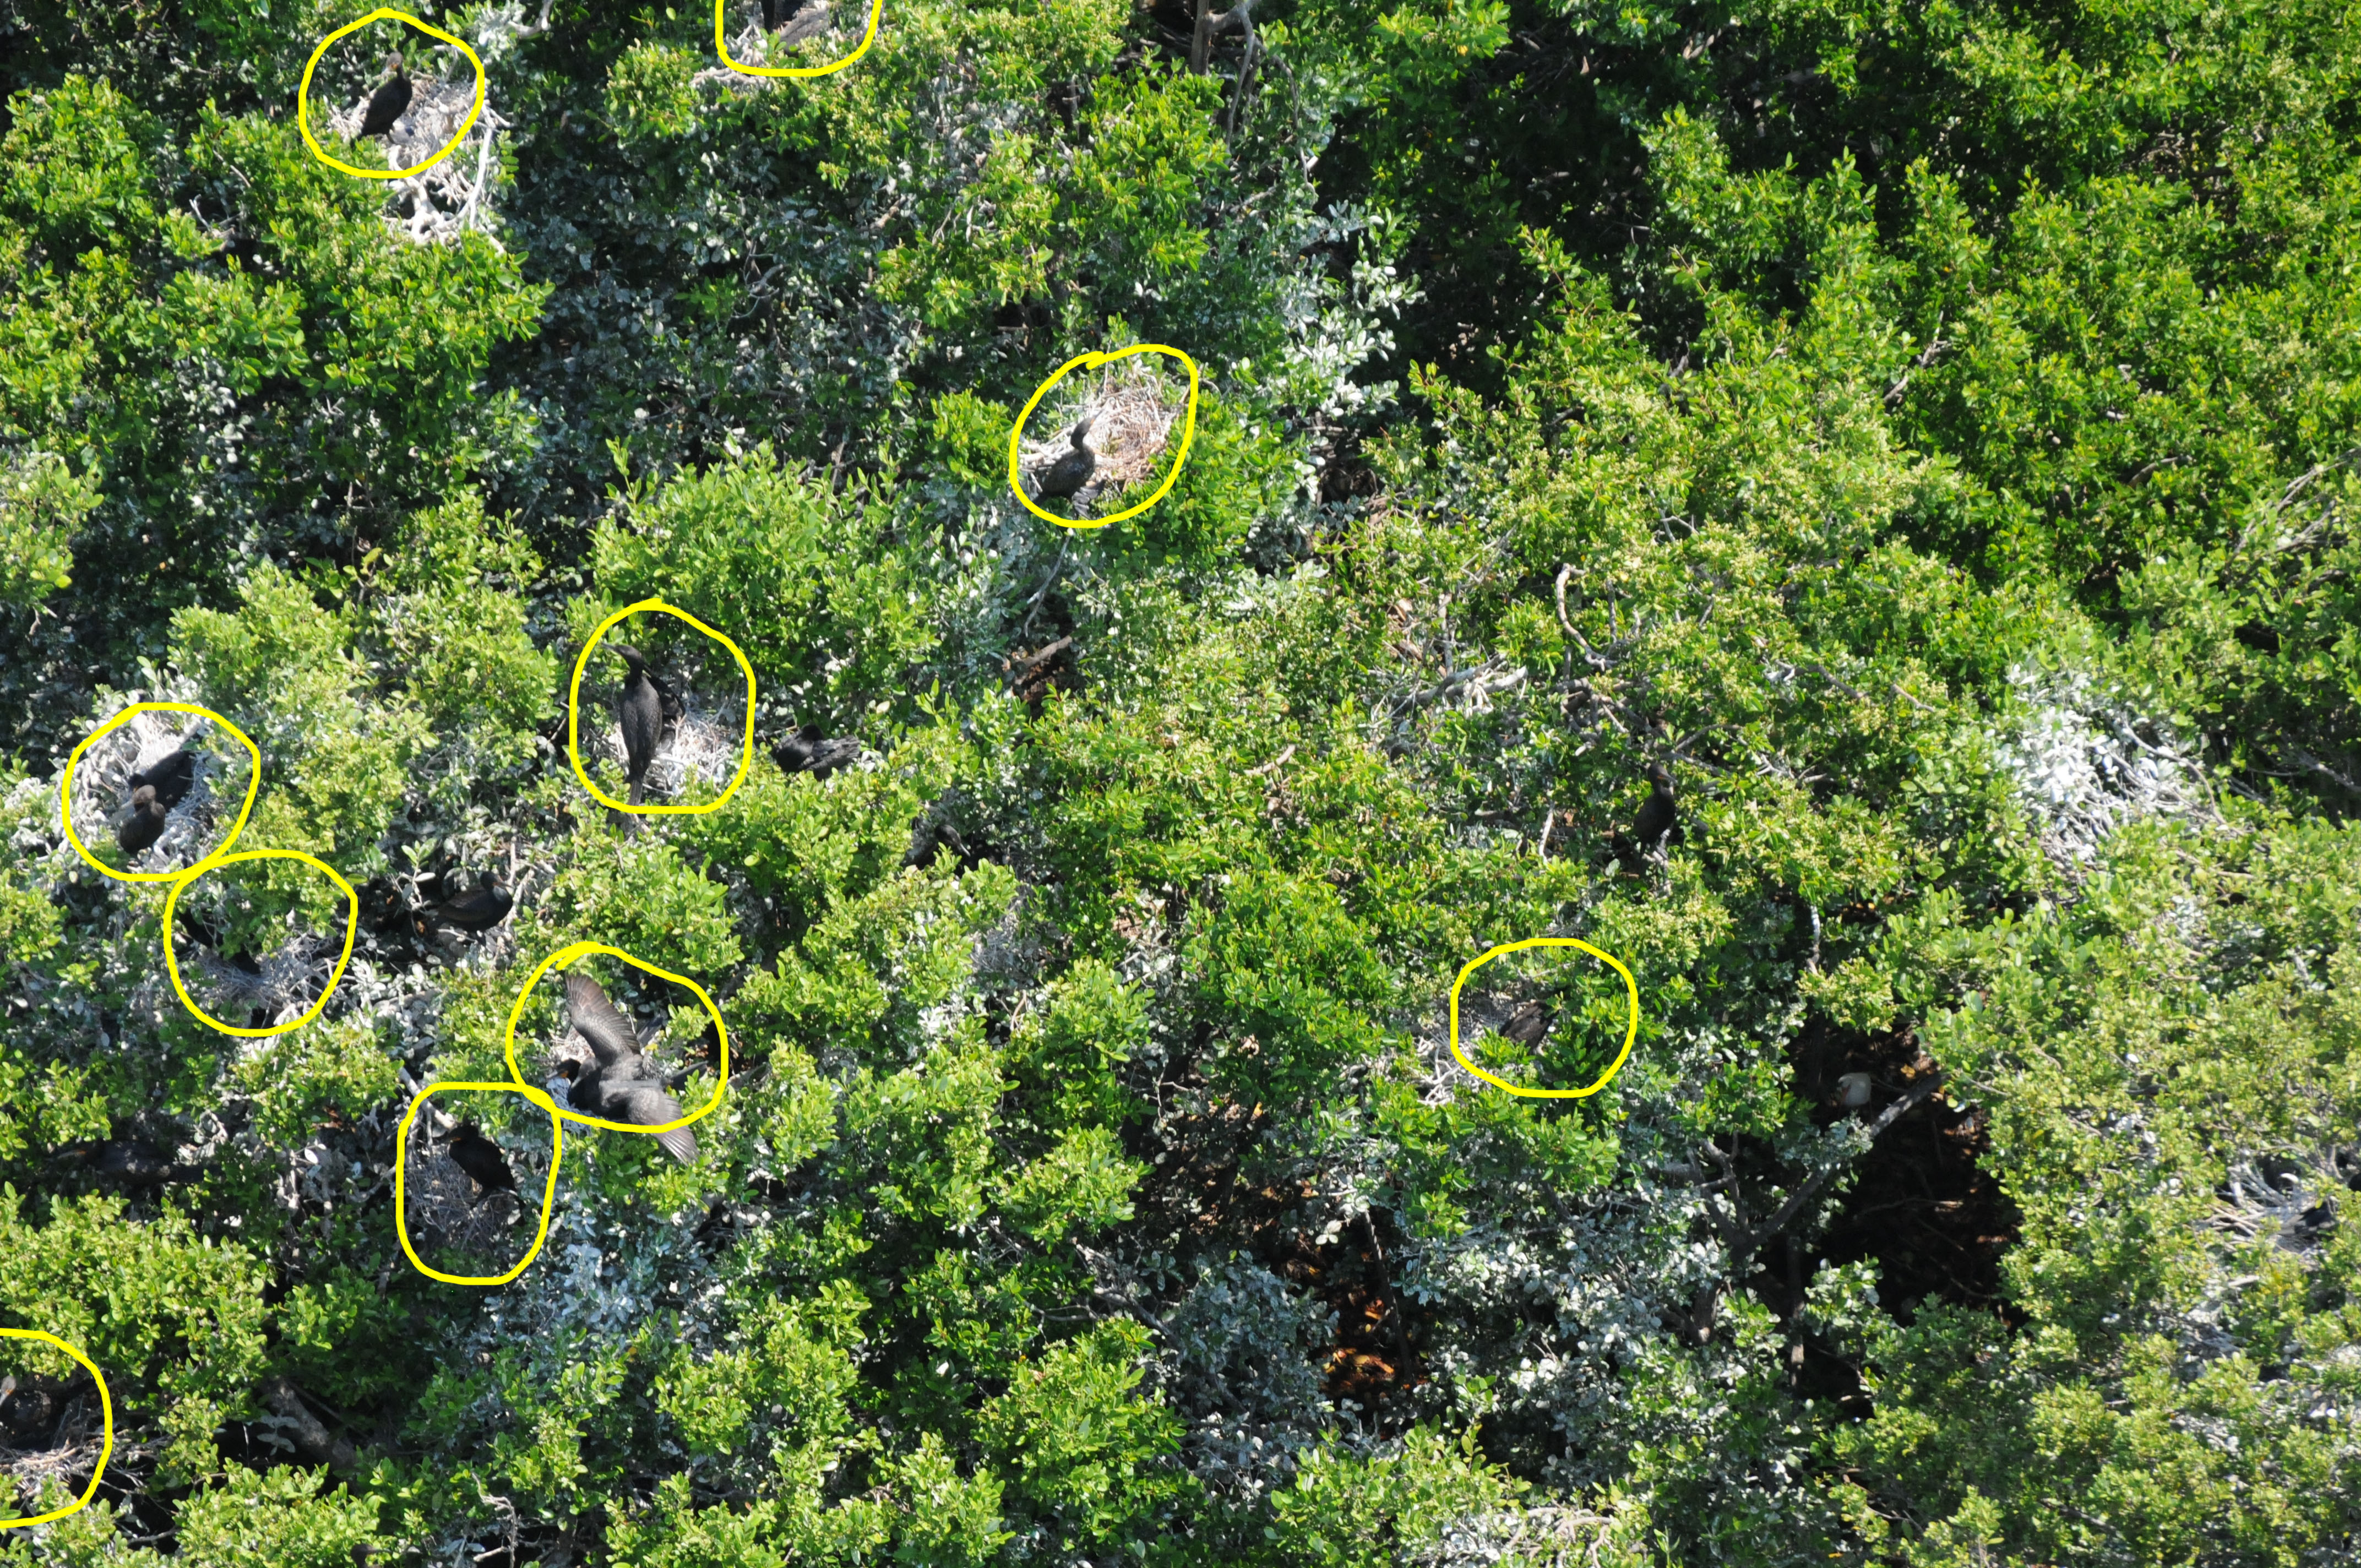nest: (396, 941, 728, 1284), (61, 702, 357, 1036), (569, 598, 756, 814), (1010, 345, 1197, 527), (299, 7, 485, 178), (1451, 938, 1638, 1097), (0, 1328, 112, 1528), (716, 0, 882, 75)
